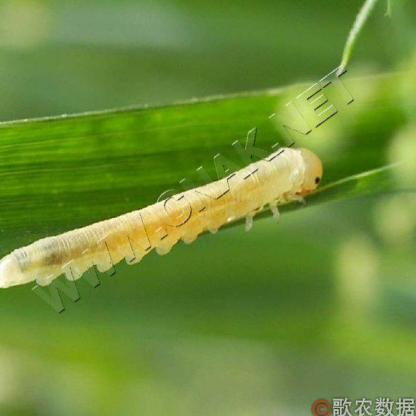sawfly: (0, 137, 326, 313)
